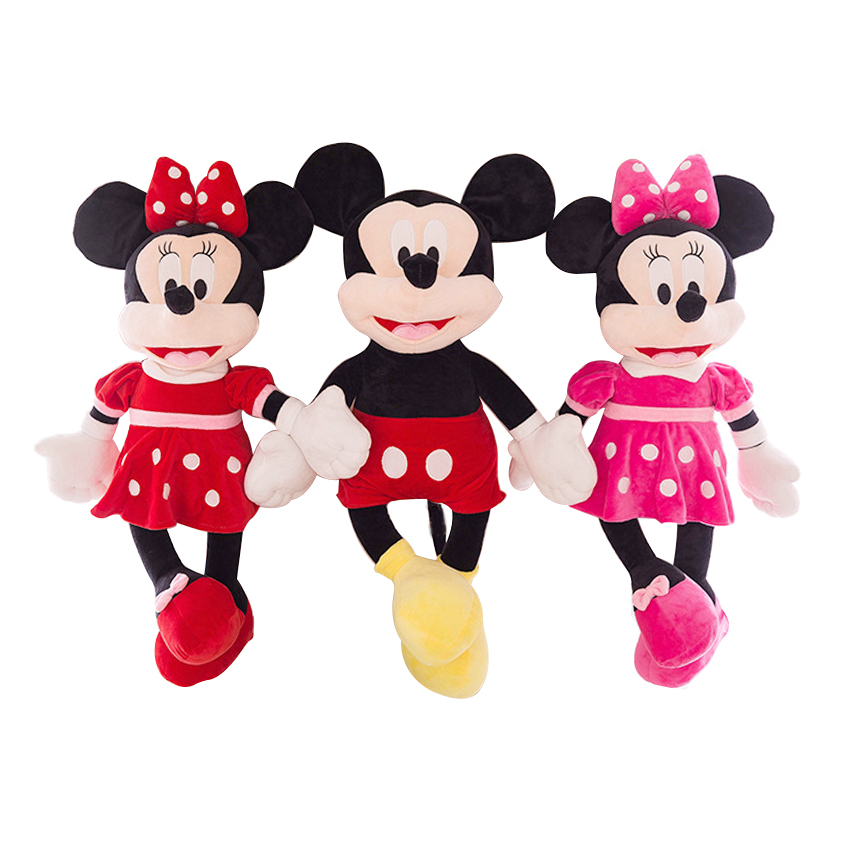Mickey: (292, 129, 555, 356)
